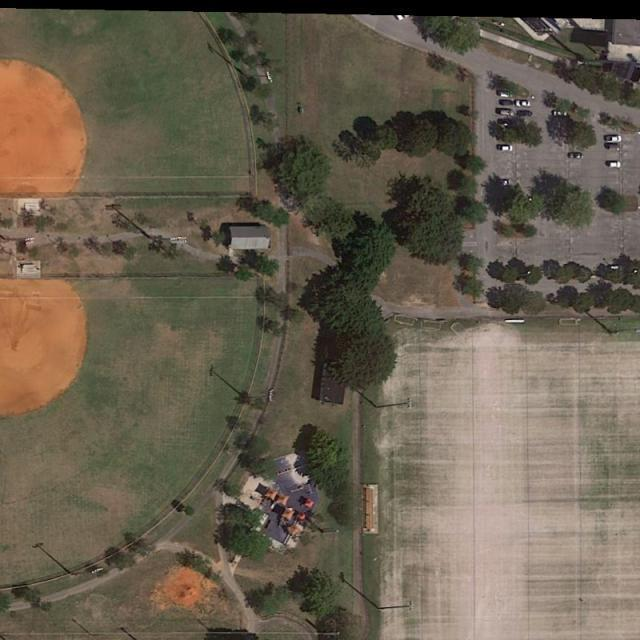vehicle: (604, 136, 623, 144), (552, 110, 570, 118), (516, 110, 534, 118), (515, 99, 531, 108), (567, 152, 584, 160), (499, 110, 514, 118), (500, 99, 514, 107), (608, 162, 622, 170), (498, 145, 513, 152), (496, 179, 511, 186), (499, 91, 513, 98)
